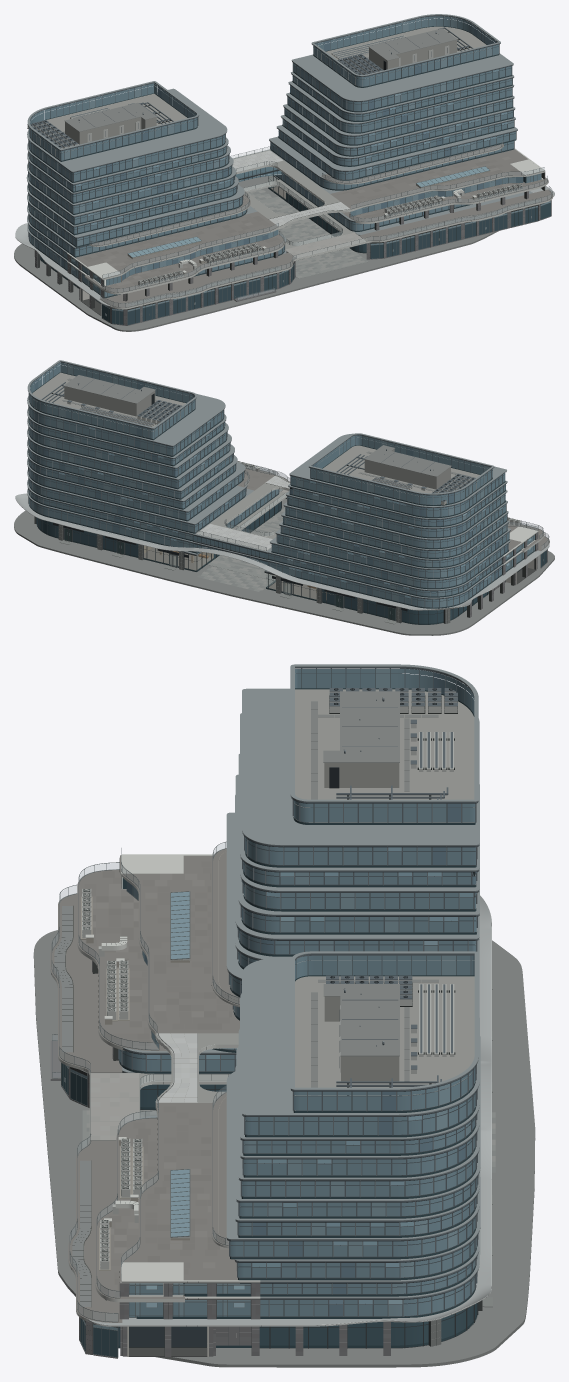
File: zijin-kechuang-v14-t5.glb
3 renders of one model, top to bottom at view 1: azimuth 30°, elevation 25°; view 2: azimuth 150°, elevation 25°; view 3: azimuth 270°, elevation 25°, orthographic. The views are drawn at different scales.
Parts seen in each view (by area): view 1: B_t5_7_1_1_0, A_t5_7_-2_1_0, B_t5_6_1_1_0, A_t5_48_-2_0_1, B_t5_48_1_0_1, A_t5_6_-2_1_0, C_t5_11_0_0_0, B_t5_7_1_0_0, B_t5_7_1_2_-1, A_t5_7_-2_0_0, A_t5_7_-2_2_-1, B_t5_6_1_0_0 (+93 smaller); view 2: B_t5_7_1_1_0, C_t5_11_0_0_0, A_t5_7_-2_1_0, A_t5_7_-2_0_0, B_t5_7_1_0_0, B_t5_6_1_1_0, A_t5_6_-2_1_0, A_t5_7_-2_2_-1, B_t5_7_1_2_-1, A_t5_1_-2_0_0, B_t5_6_1_0_0, B_t5_1_1_0_0 (+83 smaller); view 3: C_t5_11_0_0_0, A_t5_6_-2_1_0, B_t5_7_1_1_0, A_t5_48_-2_0_1, B_t5_48_1_0_1, B_t5_6_1_1_0, A_t5_7_-2_1_0, B_t5_7_1_0_0, A_t5_10_-2_1_-1, B_t5_10_1_1_-1, A_t5_7_-2_2_-1, B_t5_7_1_2_-1 (+68 smaller).
Boxes of the visible parts, box(x1,y1,x2,y2) form: B_t5_7_1_1_0: box(282, 63, 513, 165); A_t5_7_-2_1_0: box(28, 134, 236, 233); B_t5_6_1_1_0: box(280, 53, 515, 158); A_t5_48_-2_0_1: box(74, 211, 296, 307); B_t5_48_1_0_1: box(330, 149, 552, 241); A_t5_6_-2_1_0: box(26, 88, 238, 226); C_t5_11_0_0_0: box(14, 175, 498, 331); B_t5_7_1_0_0: box(270, 130, 515, 230); B_t5_7_1_2_-1: box(313, 16, 498, 86); A_t5_7_-2_0_0: box(28, 197, 284, 296); A_t5_7_-2_2_-1: box(29, 83, 197, 160); B_t5_6_1_0_0: box(269, 125, 532, 235); B_t5_7_1_1_0: box(28, 407, 235, 508); C_t5_11_0_0_0: box(14, 498, 554, 635); A_t5_7_-2_1_0: box(283, 473, 507, 566); A_t5_7_-2_0_0: box(268, 532, 509, 607); B_t5_7_1_0_0: box(29, 471, 274, 552); B_t5_6_1_1_0: box(27, 366, 237, 501); A_t5_6_-2_1_0: box(279, 433, 508, 559); A_t5_7_-2_2_-1: box(310, 435, 492, 504); B_t5_7_1_2_-1: box(30, 362, 195, 438); A_t5_1_-2_0_0: box(265, 528, 534, 624); B_t5_6_1_0_0: box(27, 459, 282, 554); B_t5_1_1_0_0: box(28, 463, 281, 571); C_t5_11_0_0_0: box(33, 930, 535, 1367); A_t5_6_-2_1_0: box(235, 688, 479, 959); B_t5_7_1_1_0: box(238, 1093, 477, 1235); A_t5_48_-2_0_1: box(50, 855, 239, 1072); B_t5_48_1_0_1: box(68, 1103, 238, 1322); B_t5_6_1_1_0: box(235, 957, 480, 1220); A_t5_7_-2_1_0: box(238, 837, 476, 967); B_t5_7_1_0_0: box(230, 1217, 476, 1316); A_t5_10_-2_1_-1: box(294, 689, 474, 822); B_t5_10_1_1_-1: box(295, 976, 474, 1110); A_t5_7_-2_2_-1: box(294, 669, 475, 822); B_t5_7_1_2_-1: box(294, 955, 475, 1110).
Size of the model in its own units: 82 by 24.03 by 39.38.
